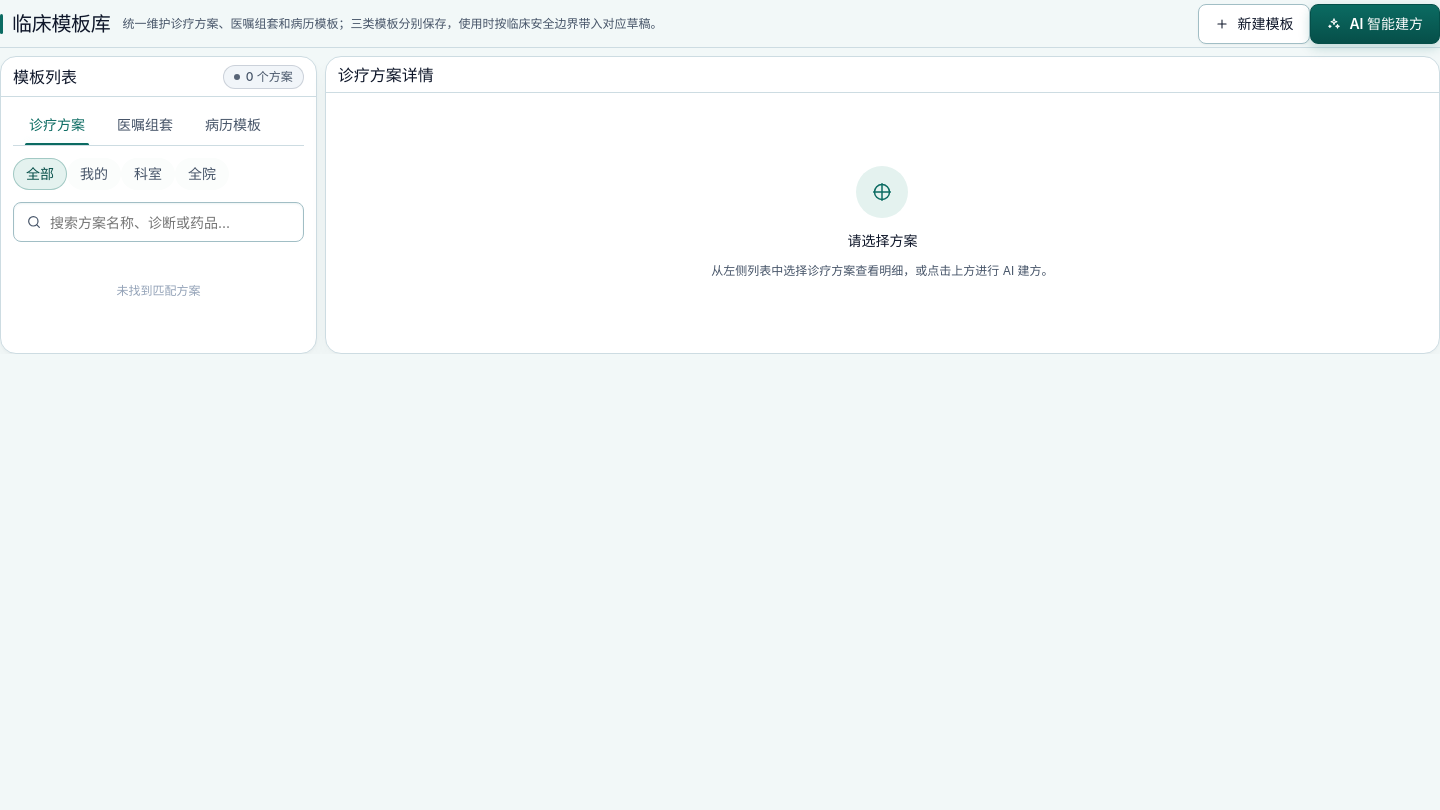
Test case: clinical template library: three types in fixed order with unified scope names › asks for the type first, with a one-line description each, then opens the matching editor
Click the button "新建模板": (1254, 24) top-left (1198, 4), bottom-right (1310, 44)
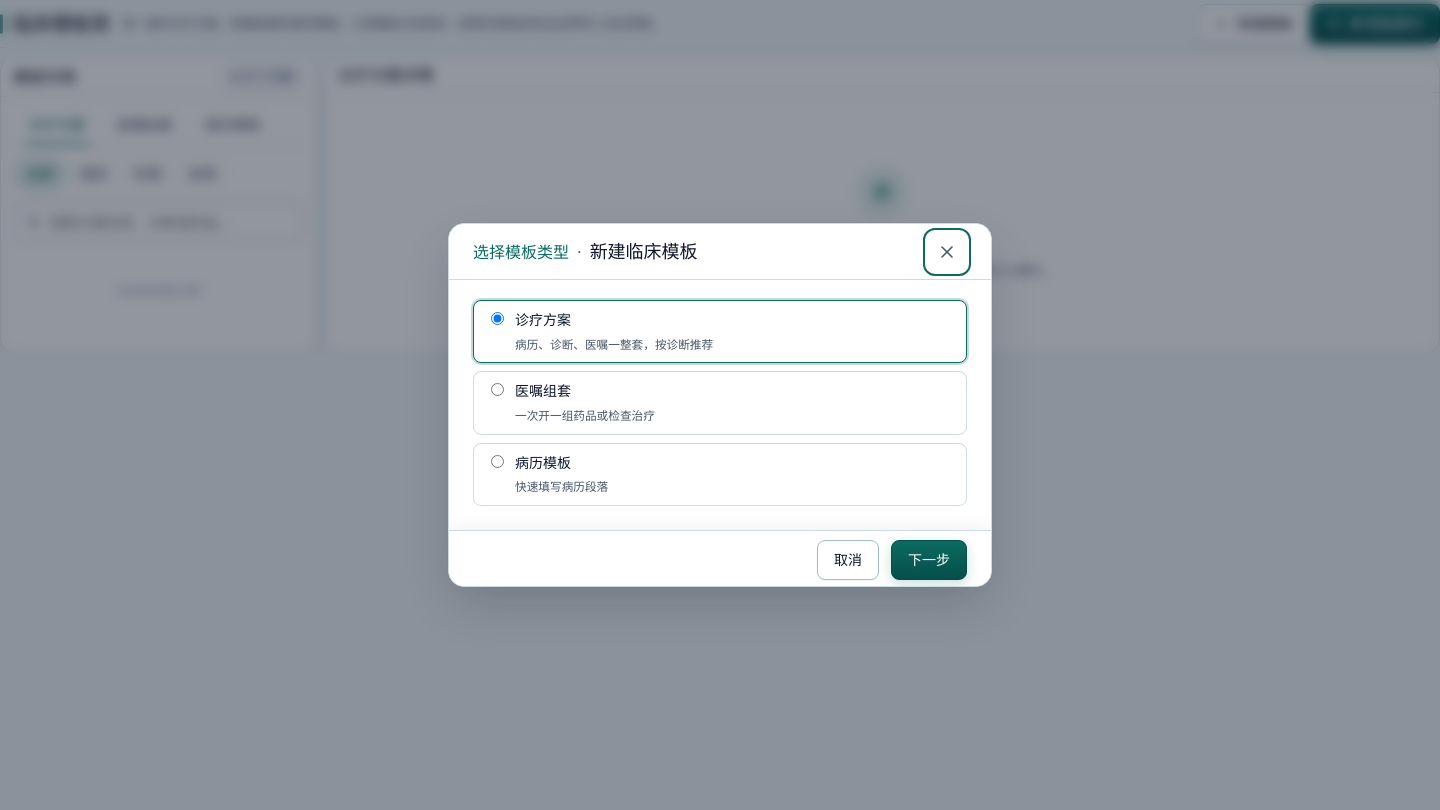
Now the radio button labelled "诊疗方案 病历、诊断、医嘱一整套，按诊断推荐" is checked, box top-left (491, 312), bottom-right (504, 325)
Click the radio button labelled "医嘱组套 一次开一组药品或检查治疗": (498, 390) top-left (491, 384), bottom-right (504, 396)
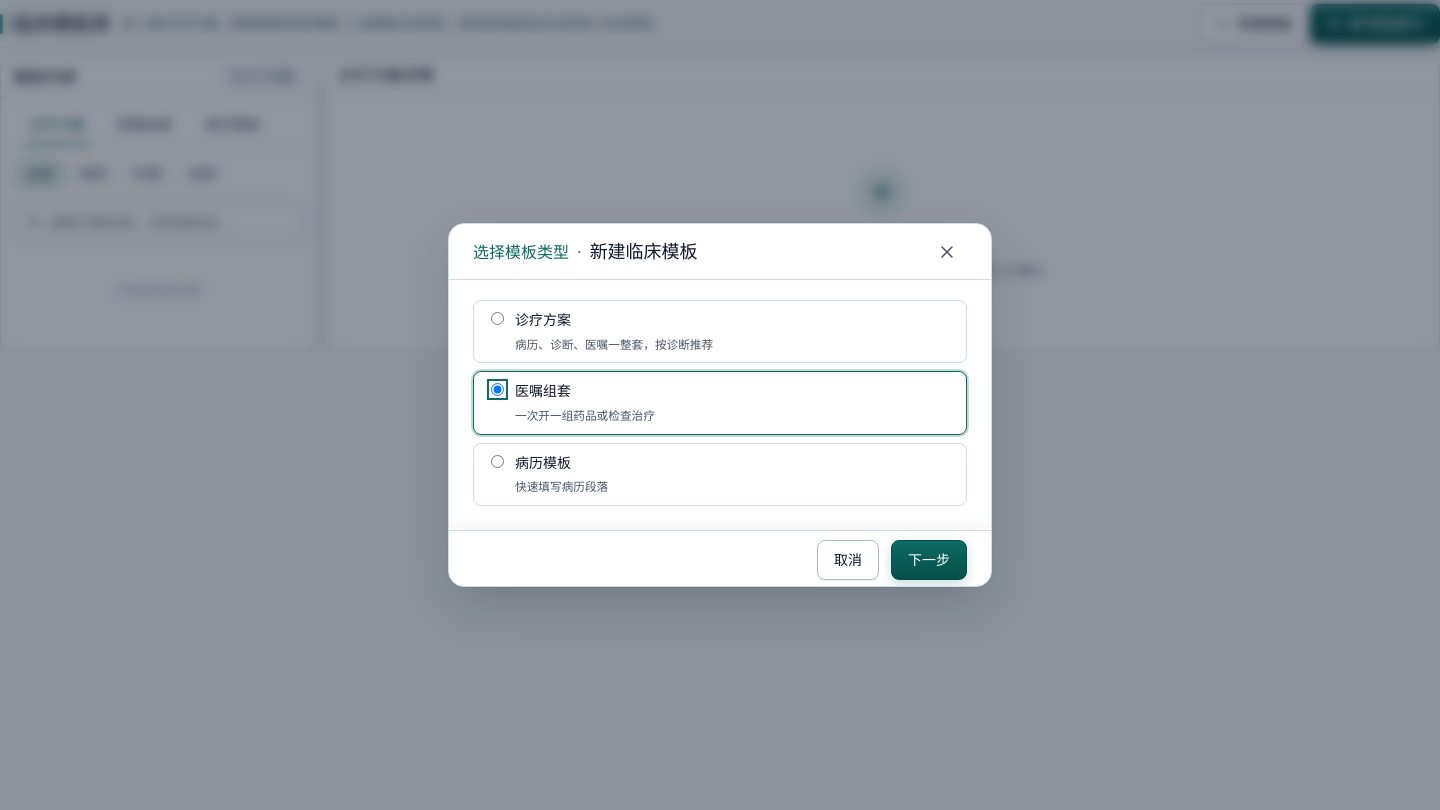
Click the button "下一步": (929, 560) top-left (891, 540), bottom-right (967, 580)
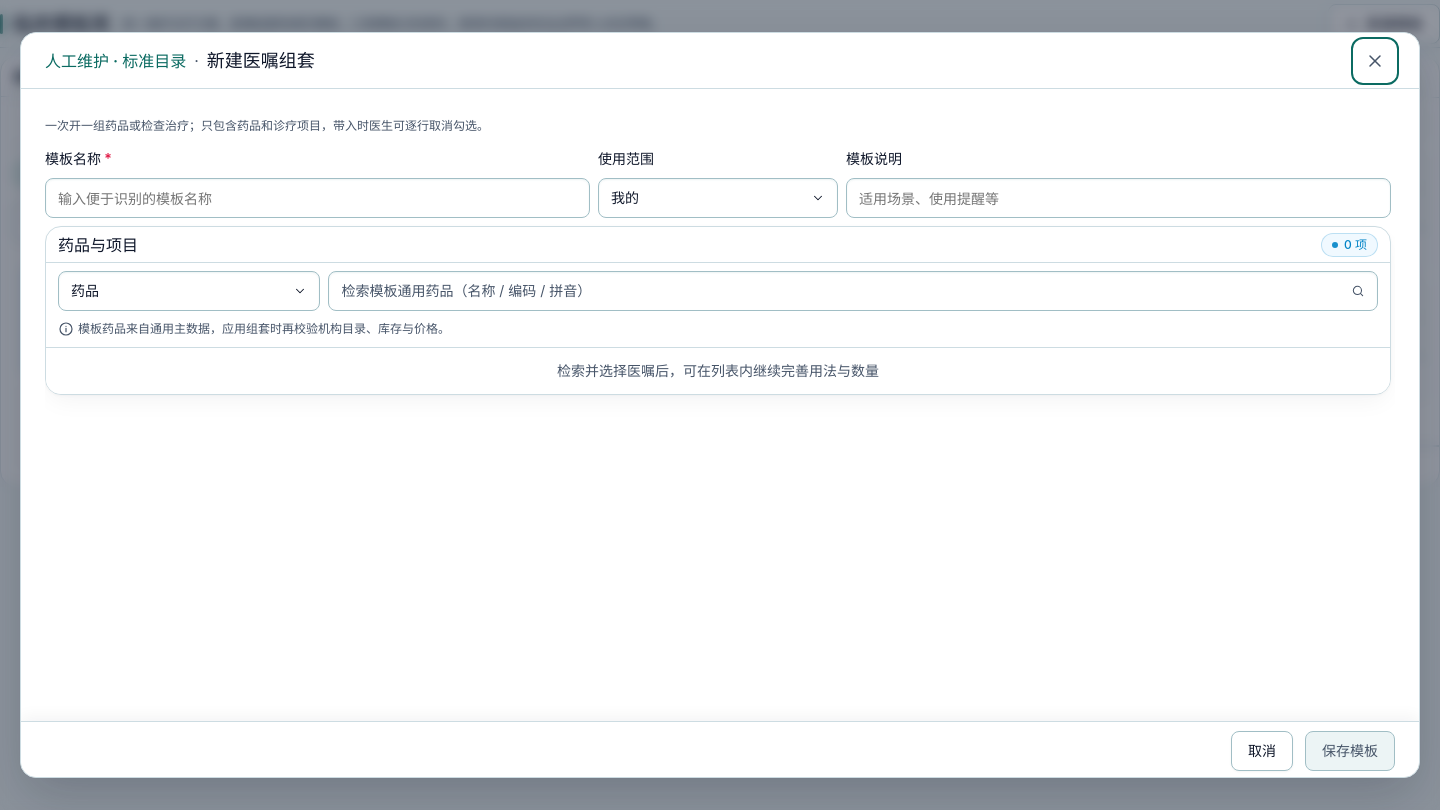
Now the heading "新建医嘱组套" is shown, box top-left (207, 47), bottom-right (315, 74)
Now the dropdown named "模板医嘱检索" is shown, box top-left (328, 271), bottom-right (1378, 311)
Now the button "保存模板" is disabled, box top-left (1305, 731), bottom-right (1395, 771)
